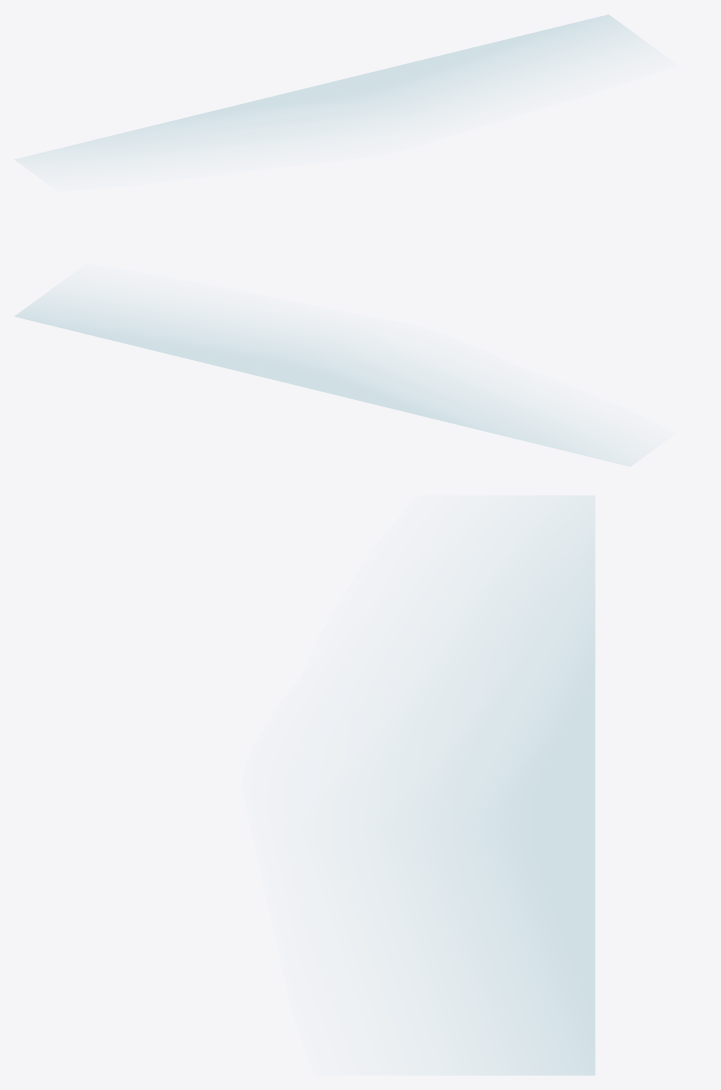
The picture shows the model from 3 angles, top to bottom: view 1: azimuth 30°, elevation 25°; view 2: azimuth 150°, elevation 25°; view 3: azimuth 270°, elevation 25°; orthographic projection. The views are drawn at different scales.
Parts seen in each view (by area): view 1: city; view 2: city; view 3: city.
Part boxes in pixels (x1,y1,x2,y2): city: (24,14,636,157); city: (15,295,619,463); city: (399,502,594,1075).
Size of the model in its own units: 500 by 0 by 171.
